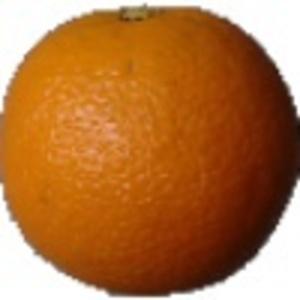laranja: (3, 3, 295, 297)
